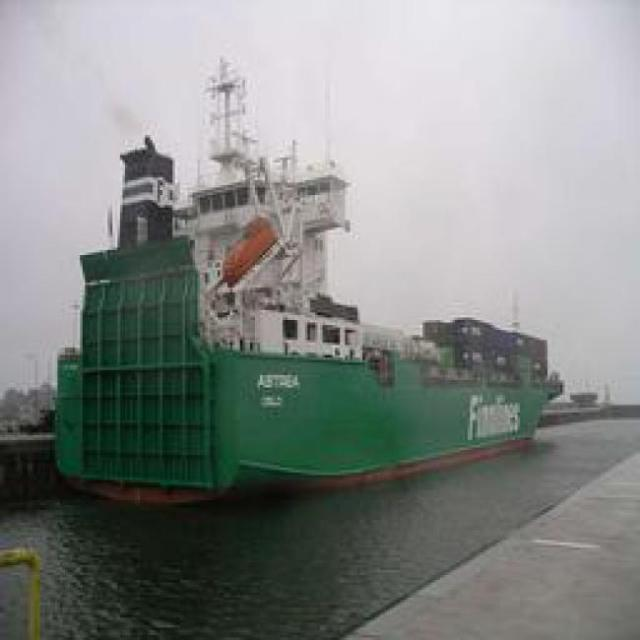boat: (76, 162, 552, 480)
